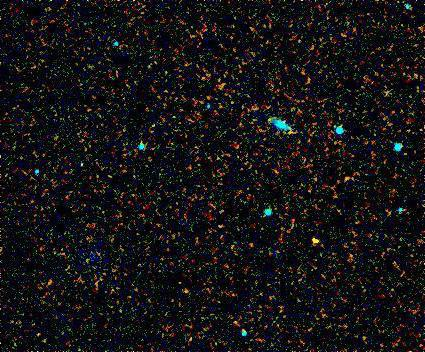star: (302, 227, 332, 257)
